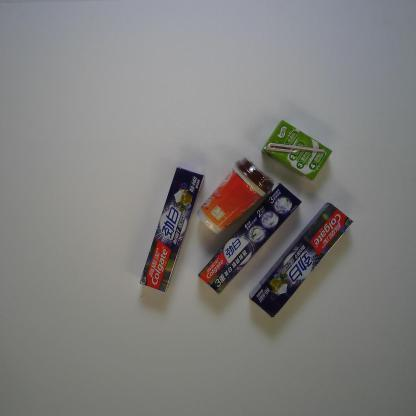Instant Drink: (196, 156, 274, 236)
Milk: (260, 118, 334, 184)
Personal Hygiene: (247, 200, 354, 320), (197, 181, 302, 297), (139, 164, 205, 292)
